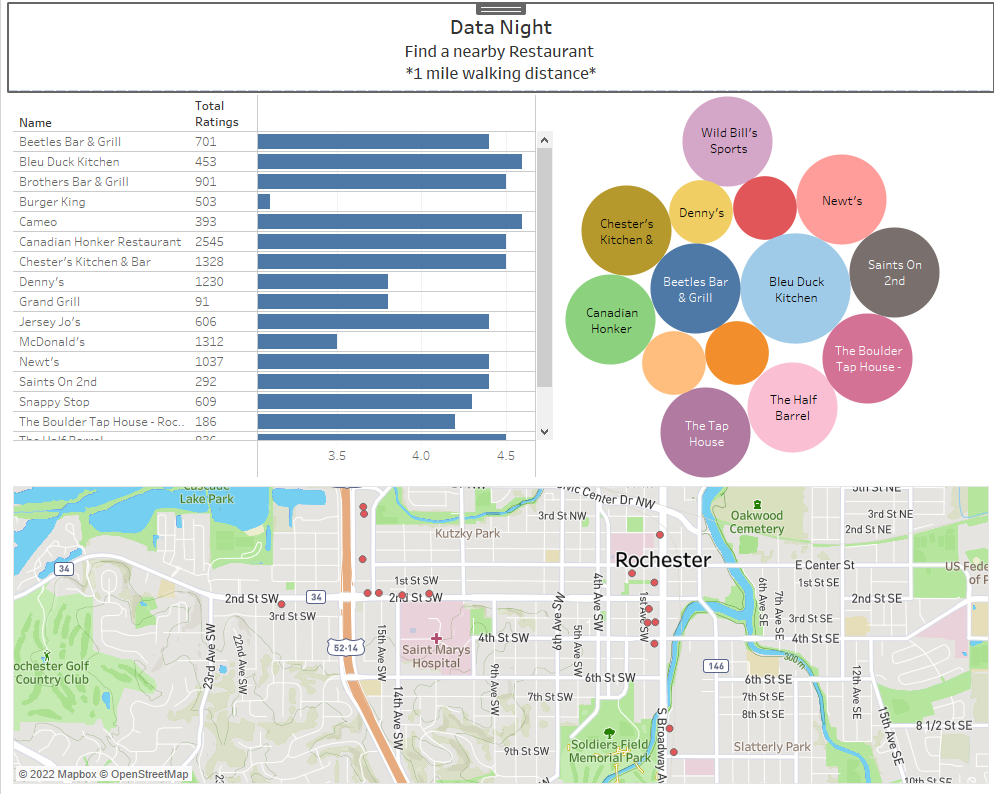

The page's visual inventory and layout, read from the dashboard file:
{"tool":"tableau","page":{"name":"Dashboard","canvas":[1000,800],"ordinal":0},"visuals":[{"type":"worksheet","title":"Title","mark":"Automatic","box":[8,8,984,87]},{"type":"worksheet","title":"Ratings","mark":"Automatic","rows":["name","User Ratings Total per results"],"cols":["Rating per results"],"box":[8,95,548,390.6]},{"type":"worksheet","title":"Price_Level","mark":"Circle","box":[556,95,436,390.6]},{"type":"text","box":[768,111,221,45]},{"type":"worksheet","title":"Map","mark":"Multipolygon","rows":["Lat (Results.Geometry.Location) per location"],"cols":["Lng (Results.Geometry.Location) per location"],"box":[8,485.6,984,306.4]}]}

Visuals, with their boxes in screenshot pixels (x1, y1, x2, y2), scaled from the page's 1000x800 canvas onto the 994x794 screenshot:
"Title" worksheet: (left=8, top=8, right=986, bottom=94)
"Ratings" worksheet: (left=8, top=94, right=553, bottom=482)
"Price_Level" worksheet (Circle marks): (left=553, top=94, right=986, bottom=482)
text: (left=763, top=110, right=983, bottom=155)
"Map" worksheet (Multipolygon marks): (left=8, top=482, right=986, bottom=786)
